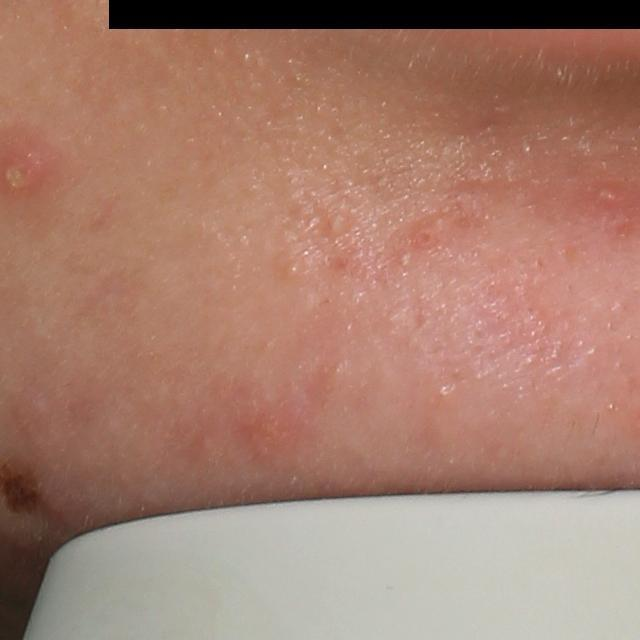comedo: (282, 259, 304, 282), (326, 211, 343, 234), (400, 251, 411, 268)
pustule: (594, 181, 626, 212)
